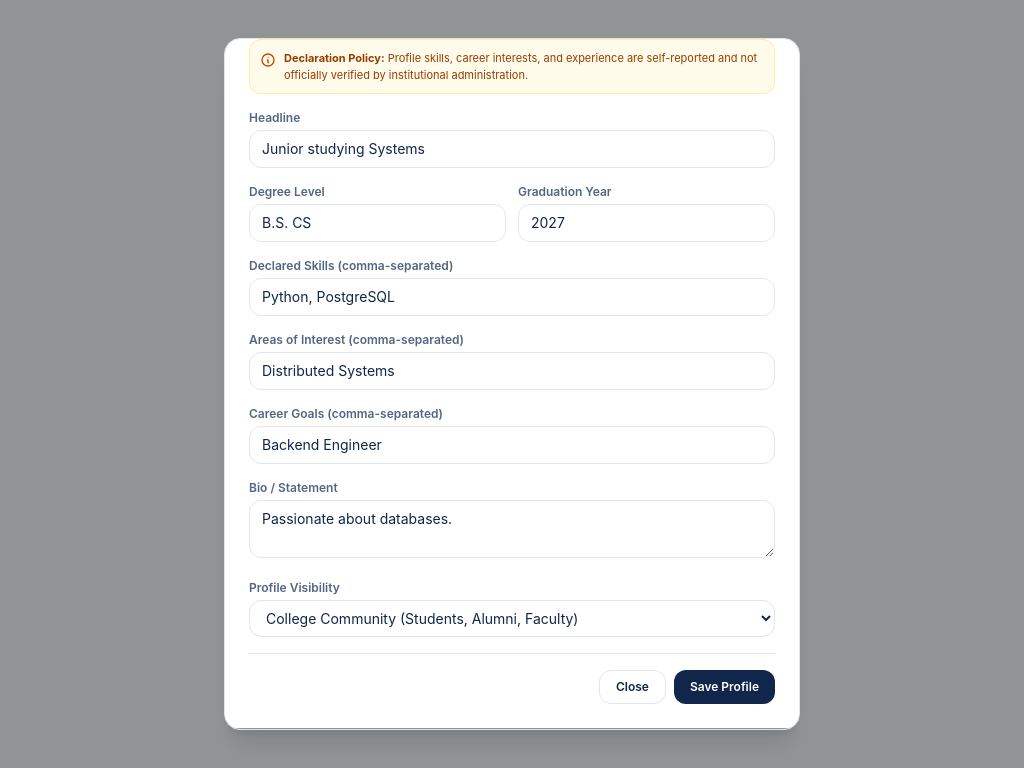
Test: MyProfileModal › renders student profile and allows saving updates
(page scrolled)
Expected: the field showing "Junior studying Systems" below "Headline" is shown, top-left (249, 130), bottom-right (775, 168)
Expected: the field showing "Python, PostgreSQL" below "Declared Skills (comma-separated)" is shown, top-left (249, 278), bottom-right (775, 316)
What coordinates should you click on to do the following:
click the button "Save Profile"
I would click on:
 (724, 687)
Its box is top-left (674, 670), bottom-right (775, 704).
(page scrolled)
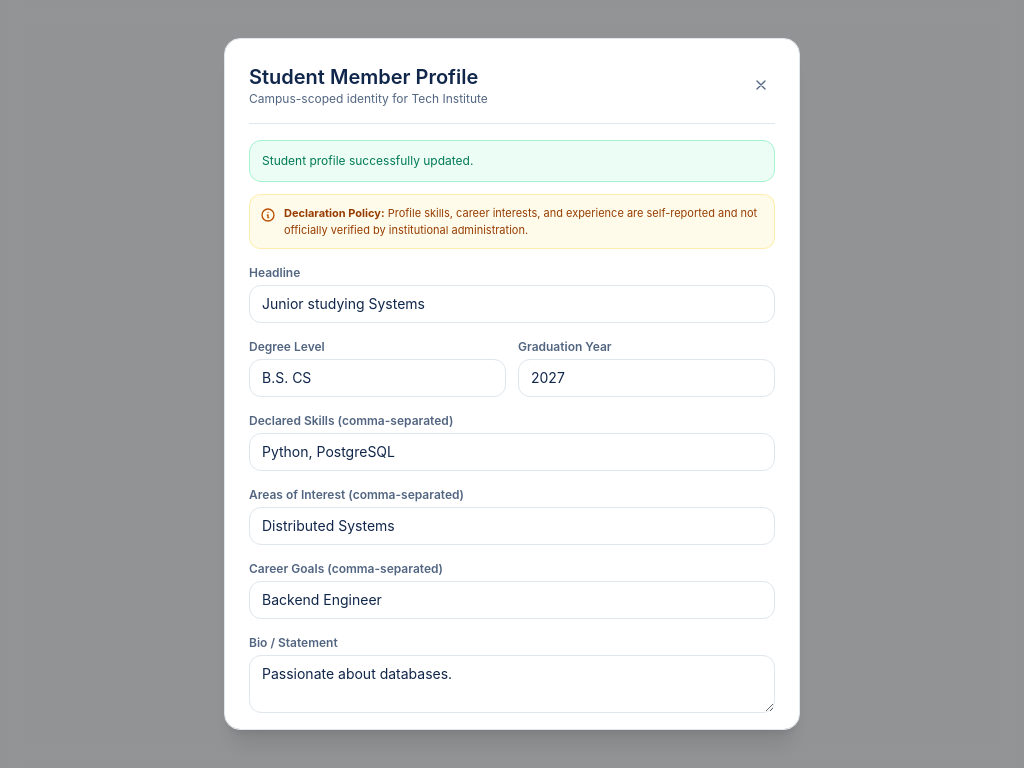
Now the text "Student profile successfully updated." is shown, box top-left (249, 140), bottom-right (775, 182)
